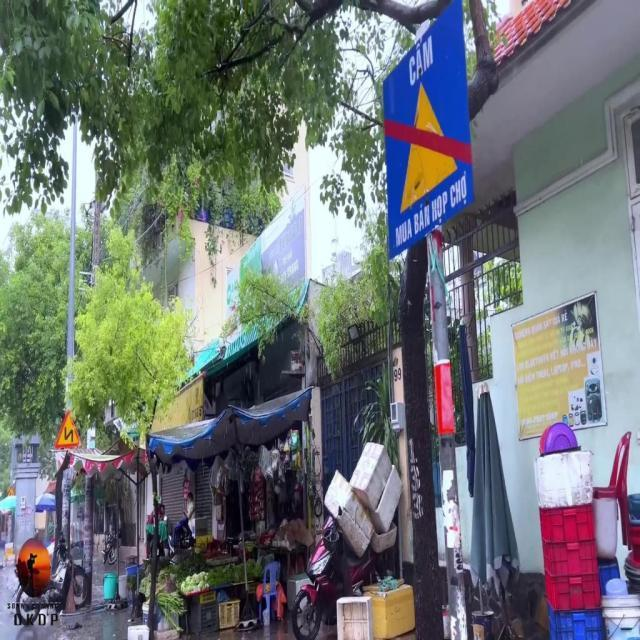201-cho-ngoat-nguy-hiem: (54, 410, 80, 448)
